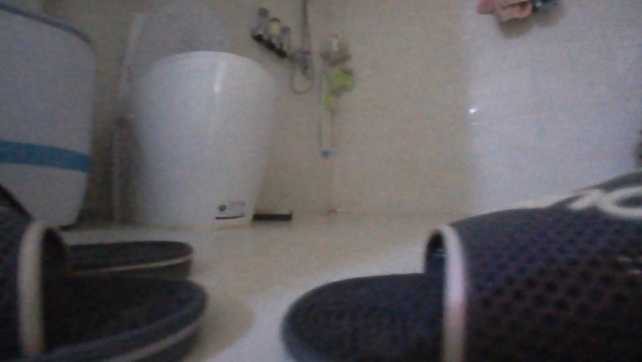toilet: (115, 0, 278, 232)
